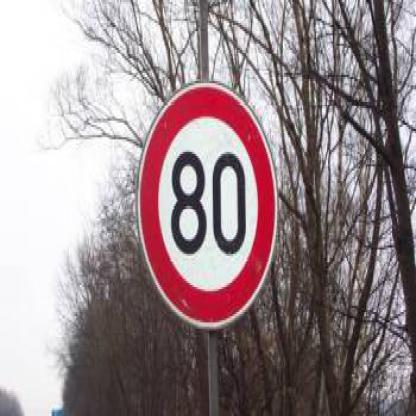Speed Limit 80: (141, 77, 277, 327)
